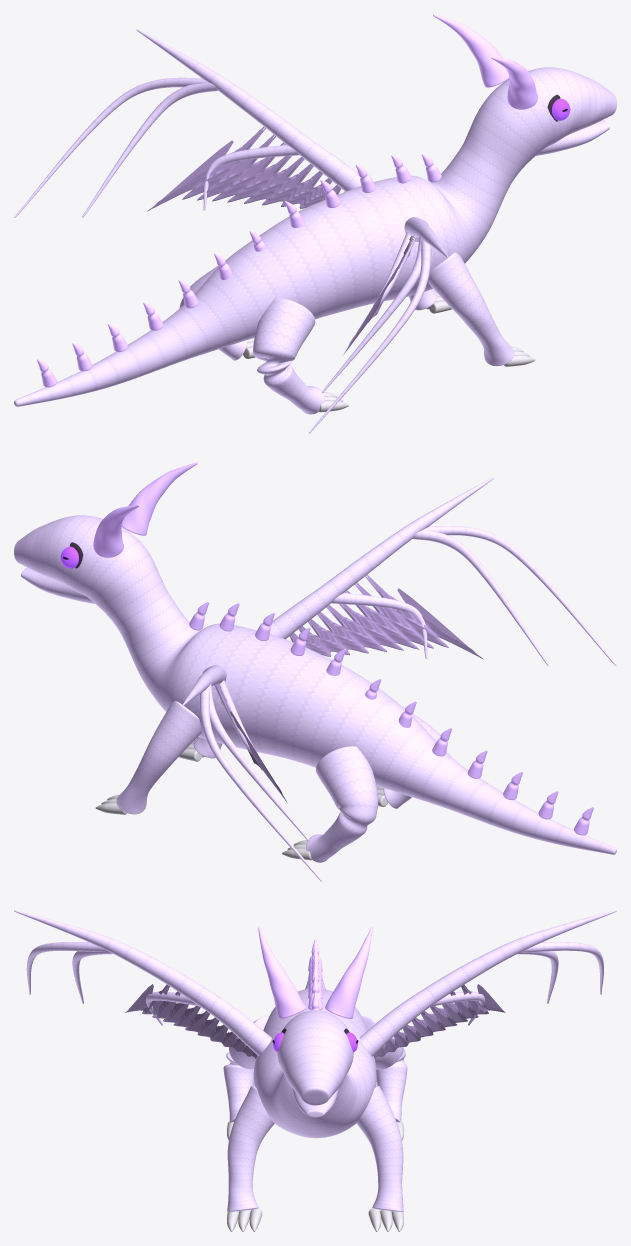
Rendered from dragon.glb.
The picture shows the model from 3 angles, top to bottom: view 1: azimuth 30°, elevation 25°; view 2: azimuth 150°, elevation 25°; view 3: azimuth 270°, elevation 25°; orthographic projection. The views are drawn at different scales.
Visible parts, largest first — view 1: Dragon_Organic; view 2: Dragon_Organic; view 3: Dragon_Organic.
Boxes of the visible parts, x1,y1,x2,y2 form: Dragon_Organic: (14, 14, 616, 433); Dragon_Organic: (14, 462, 616, 881); Dragon_Organic: (14, 910, 616, 1231).
Bounding box in the file's own units: 5.9 × 2.86 × 5.32.
7 materials, 1 textured.
